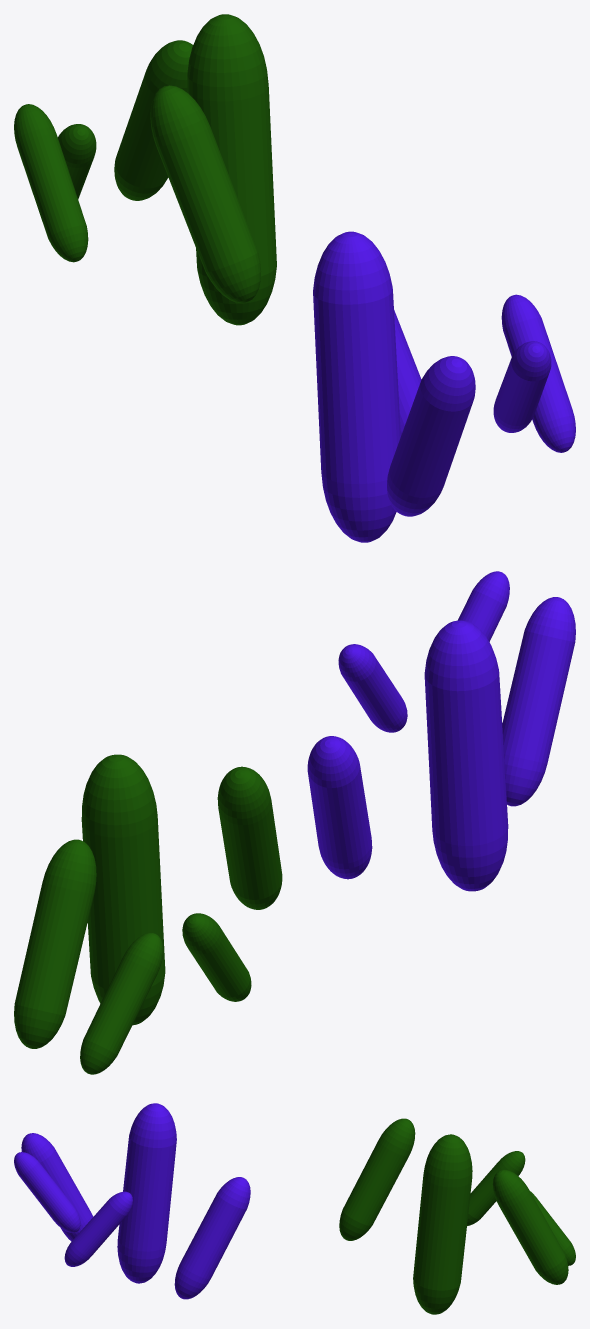
Rendered from bacteria.gltf.
The picture shows the model from 3 angles, top to bottom: view 1: azimuth 30°, elevation 25°; view 2: azimuth 150°, elevation 25°; view 3: azimuth 270°, elevation 25°; orthographic projection. The views are drawn at different scales.
Parts seen in each view (by area): view 1: Sphere.006, Sphere.003; view 2: Sphere.006, Sphere.003; view 3: Sphere.006, Sphere.003.
Boxes of the visible parts, <box> form: Sphere.006: <box>313,231,575,542</box>; Sphere.003: <box>14,14,276,325</box>; Sphere.006: <box>307,571,575,891</box>; Sphere.003: <box>14,754,282,1074</box>; Sphere.006: <box>14,1103,250,1299</box>; Sphere.003: <box>339,1118,575,1314</box>.
Bounding box in the file's own units: 5.53 × 8.2 × 22.95.
